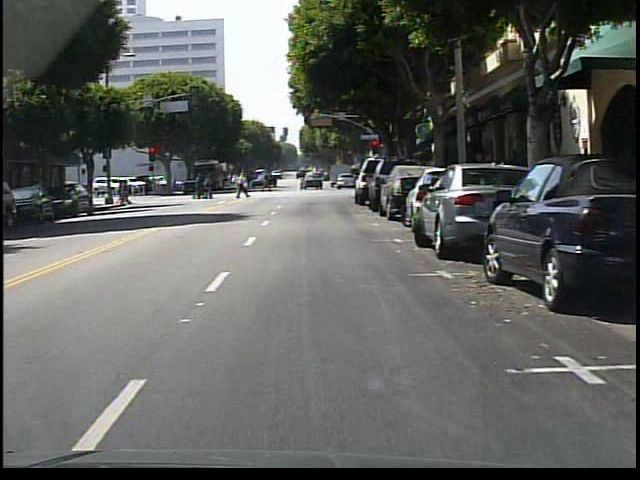person: (230, 170, 251, 203)
